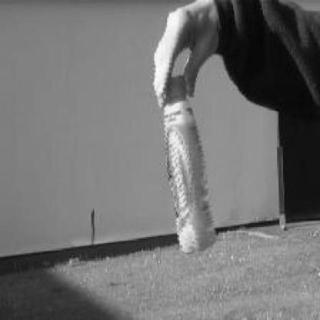other: (165, 64, 219, 258)
